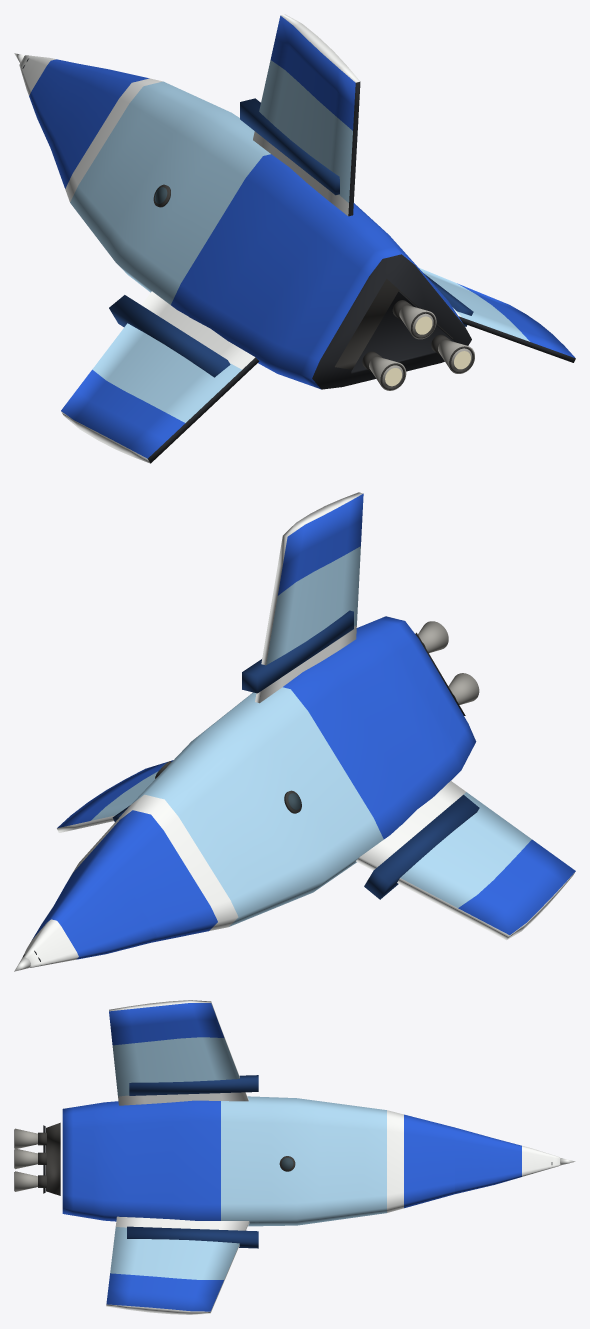
The model's file is player_spaceship.glb.
The picture shows the model from 3 angles, top to bottom: view 1: azimuth 30°, elevation 25°; view 2: azimuth 150°, elevation 25°; view 3: azimuth 270°, elevation 25°; orthographic projection. The views are drawn at different scales.
Visible parts, largest first — view 1: Fuselage_RoundedTriangleTriFoldBody, Wing_LowerLeft_TriFoldCornerBladePaintedMesh, Wing_Dorsal_TriFoldCornerBladePaintedMesh, Nose_RoundedTriangleTaperedForwardSection, Wing_LowerRight_TriFoldCornerBladePaintedMesh, WingRootSocket_LowerLeft_IntegratedEmbeddedShoulder, EngineBlock_AftTriFoldTrimFrame, WingRootSocket_Dorsal_IntegratedEmbeddedShoulder, EngineBlock_AftTriangularIntegratedMountPlate, EngineEmitter, EngineBell_LowerLeft_BurnishedNozzle, EngineBell_Dorsal_BurnishedNozzle (+1 smaller); view 2: Fuselage_RoundedTriangleTriFoldBody, Wing_LowerLeft_TriFoldCornerBladePaintedMesh, Wing_Dorsal_TriFoldCornerBladePaintedMesh, Nose_RoundedTriangleTaperedForwardSection, WingRootSocket_LowerLeft_IntegratedEmbeddedShoulder, WingRootSocket_Dorsal_IntegratedEmbeddedShoulder, Wing_LowerRight_TriFoldCornerBladePaintedMesh, EngineBell_Dorsal_BurnishedNozzle, EngineBell_LowerLeft_BurnishedNozzle; view 3: Fuselage_RoundedTriangleTriFoldBody, Wing_Dorsal_TriFoldCornerBladePaintedMesh, Wing_LowerRight_TriFoldCornerBladePaintedMesh, Nose_RoundedTriangleTaperedForwardSection, WingRootSocket_Dorsal_IntegratedEmbeddedShoulder, WingRootSocket_LowerRight_IntegratedEmbeddedShoulder, EngineBlock_AftTriangularIntegratedMountPlate.
Part boxes in pixels (x1,y1,x2,y2): Fuselage_RoundedTriangleTriFoldBody: (50,69,471,389); Wing_LowerLeft_TriFoldCornerBladePaintedMesh: (61,291,259,463); Wing_Dorsal_TriFoldCornerBladePaintedMesh: (253,14,360,216); Nose_RoundedTriangleTaperedForwardSection: (19,55,108,147); Wing_LowerRight_TriFoldCornerBladePaintedMesh: (419,268,575,362); WingRootSocket_LowerLeft_IntegratedEmbeddedShoulder: (109,295,230,377); EngineBlock_AftTriFoldTrimFrame: (351,291,456,373); WingRootSocket_Dorsal_IntegratedEmbeddedShoulder: (240,98,339,195); EngineBlock_AftTriangularIntegratedMountPlate: (335,278,452,369); EngineEmitter: (385,316,470,386); EngineBell_LowerLeft_BurnishedNozzle: (369,356,406,390); EngineBell_Dorsal_BurnishedNozzle: (399,305,436,339); Fuselage_RoundedTriangleTriFoldBody: (54,616,476,942); Wing_LowerLeft_TriFoldCornerBladePaintedMesh: (356,781,575,940); Wing_Dorsal_TriFoldCornerBladePaintedMesh: (255,492,363,703); Nose_RoundedTriangleTaperedForwardSection: (22,856,156,967); WingRootSocket_LowerLeft_IntegratedEmbeddedShoulder: (364,794,479,899); WingRootSocket_Dorsal_IntegratedEmbeddedShoulder: (242,610,353,693); Wing_LowerRight_TriFoldCornerBladePaintedMesh: (57,760,173,832); EngineBell_Dorsal_BurnishedNozzle: (418,621,448,652); EngineBell_LowerLeft_BurnishedNozzle: (448,673,479,704); Fuselage_RoundedTriangleTriFoldBody: (62,1096,454,1226); Wing_Dorsal_TriFoldCornerBladePaintedMesh: (109,1000,248,1105); Wing_LowerRight_TriFoldCornerBladePaintedMesh: (106,1216,249,1314); Nose_RoundedTriangleTaperedForwardSection: (455,1127,560,1193); WingRootSocket_Dorsal_IntegratedEmbeddedShoulder: (129,1075,258,1095); WingRootSocket_LowerRight_IntegratedEmbeddedShoulder: (127,1226,258,1248); EngineBlock_AftTriangularIntegratedMountPlate: (46,1122,60,1195).
Bounding box in the file's own units: 4.8 × 3.58 × 7.61.
